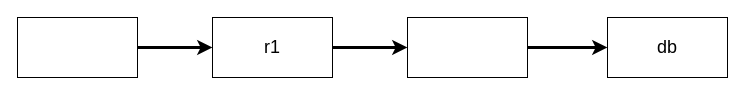
Image size: 745x95. Some labels were removed from this diagram. The shapes that lost their labels are listed below. From the top down, each one's centre as x and y in pixels, then its label:
the point at 77,47: frontend
the point at 467,47: fw1
